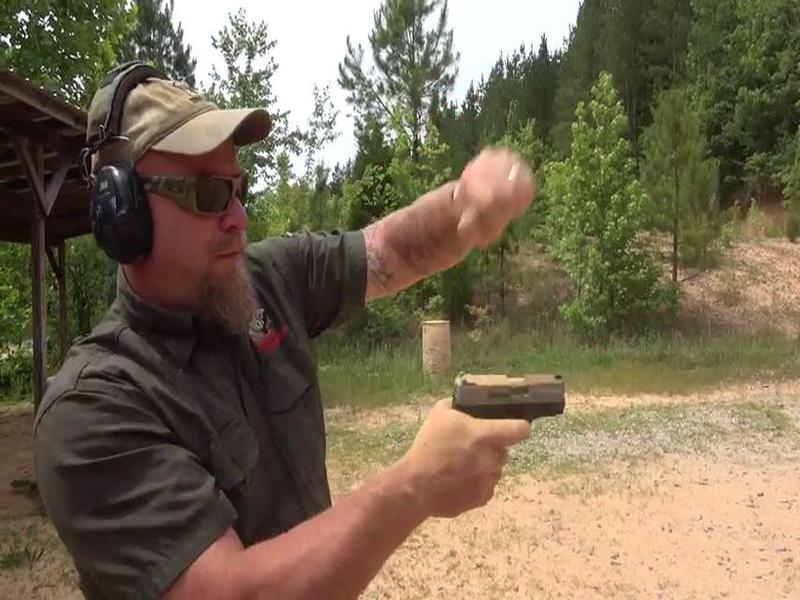Pistola: (449, 365, 579, 433)
